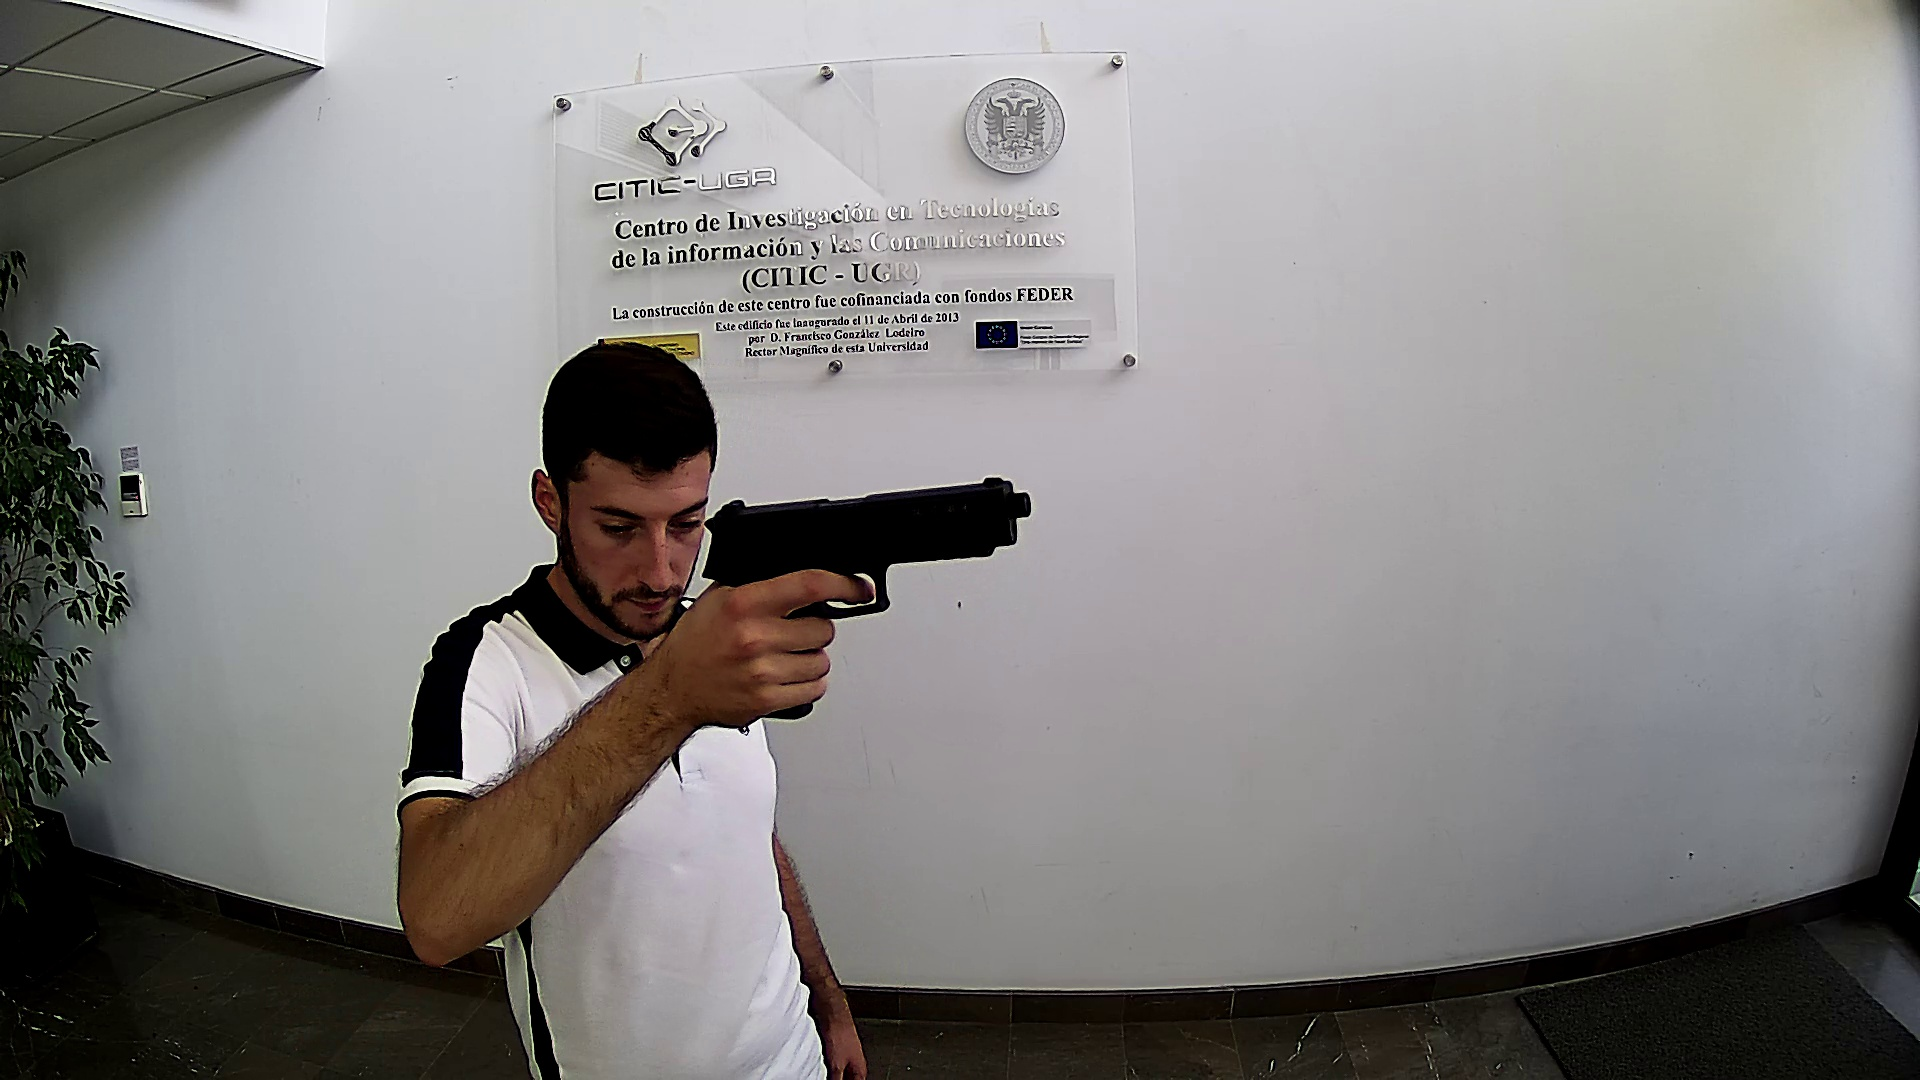pistol: (699, 473, 1033, 723)
